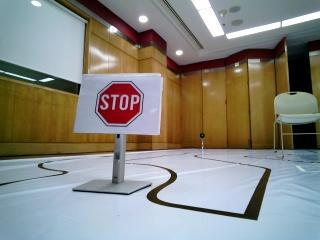stop: (82, 77, 154, 131)
